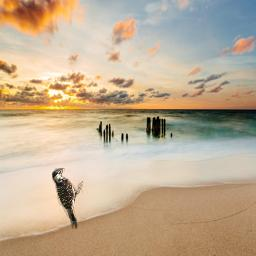Woodpecker: (52, 168, 83, 229)
